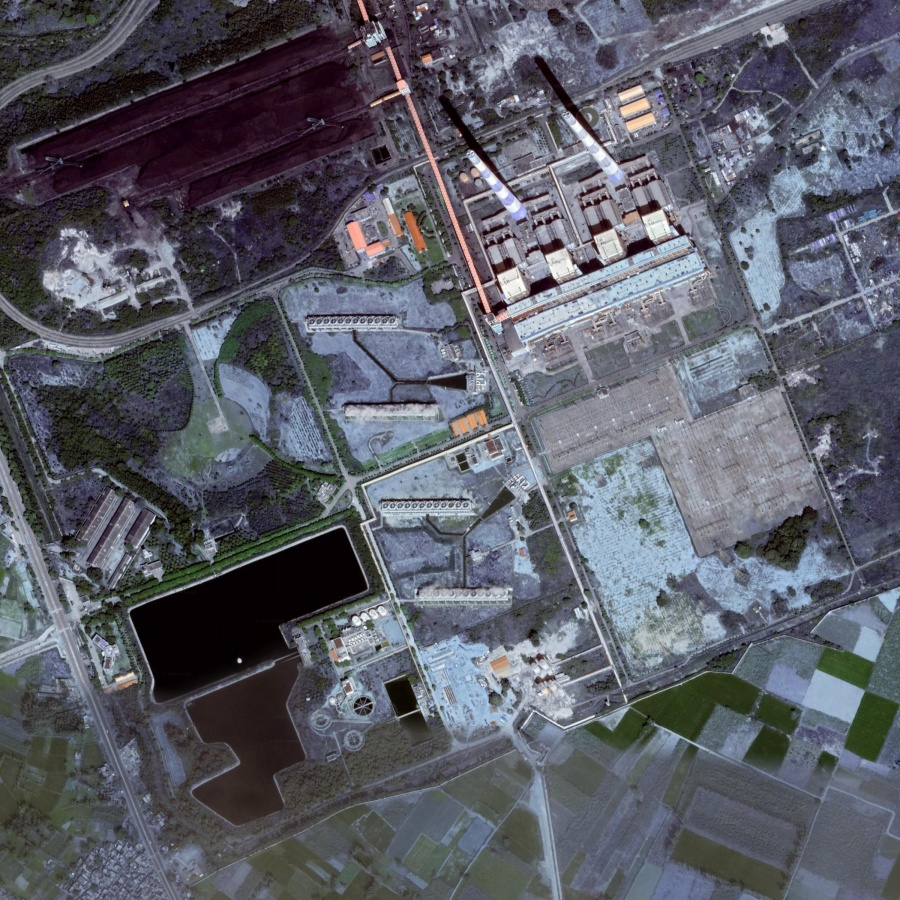PowerPlant: (109, 518, 379, 746), (428, 48, 665, 254)
